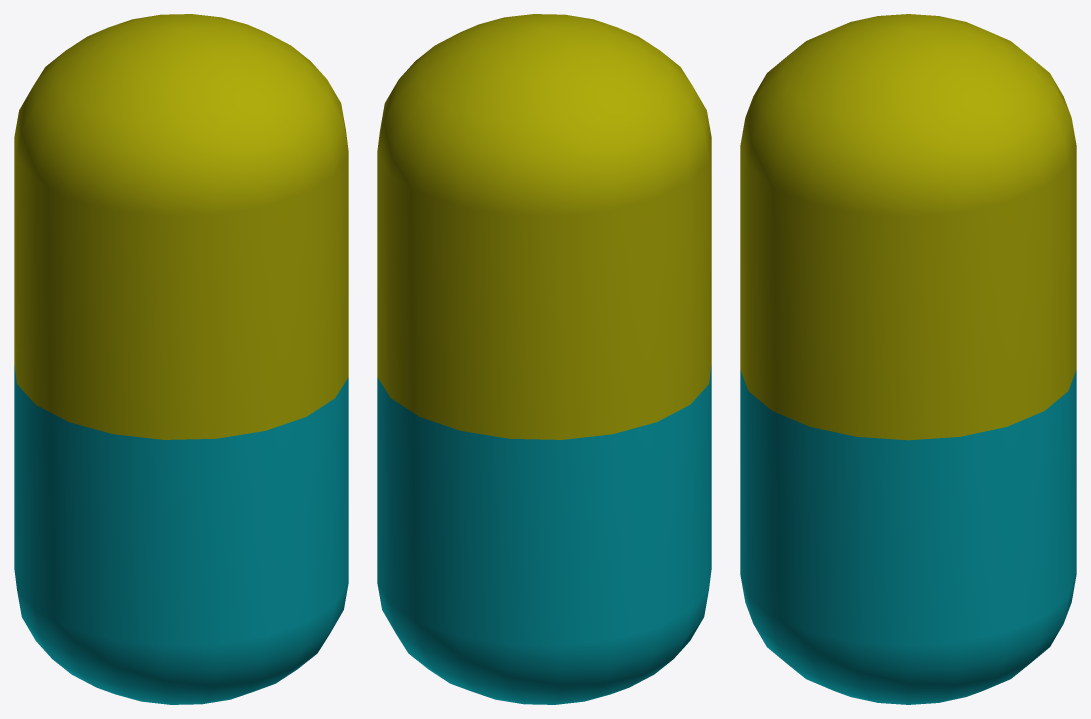
3 views of the same model, side by side, from view 1: azimuth 30°, elevation 25°; view 2: azimuth 150°, elevation 25°; view 3: azimuth 270°, elevation 25° (orthographic).
Visible parts, largest first — view 1: Capsule; view 2: Capsule; view 3: Capsule.
Part boxes in pixels (box(x1,y1,x2,y2)): Capsule: box(14, 14, 348, 704); Capsule: box(377, 14, 711, 704); Capsule: box(740, 14, 1076, 704).
Size of the model in its own units: 100 by 214 by 100.
